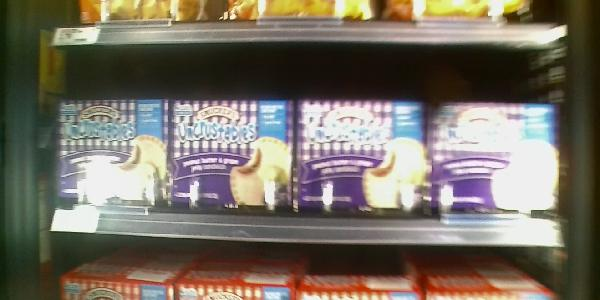icecream: (296, 99, 433, 216), (430, 99, 558, 218), (172, 99, 294, 211), (56, 96, 169, 209)
